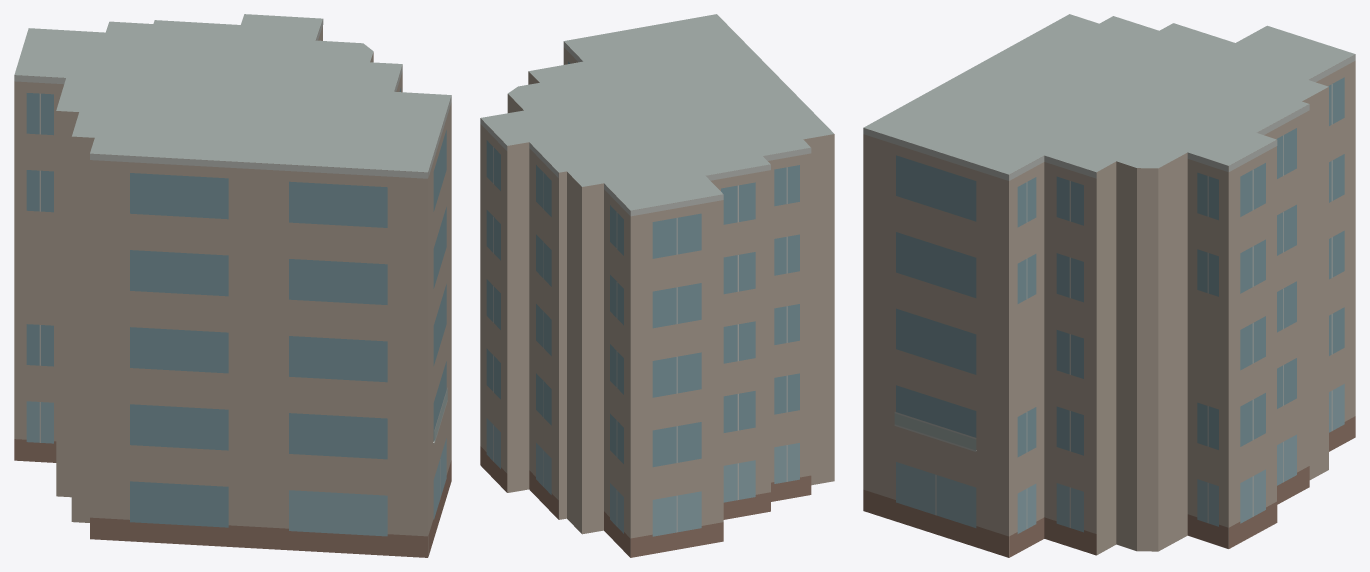
Rendered from survey-upis-32779672.glb.
3 views of the same model, side by side, from view 1: azimuth 30°, elevation 25°; view 2: azimuth 150°, elevation 25°; view 3: azimuth 270°, elevation 25° (orthographic). The views are drawn at different scales.
Visible parts, largest first — view 1: survey-upis-32779672.tmp; view 2: survey-upis-32779672.tmp; view 3: survey-upis-32779672.tmp.
Boxes of the visible parts, x1,y1,x2,y2 form: survey-upis-32779672.tmp: (14, 14, 451, 557); survey-upis-32779672.tmp: (480, 14, 834, 557); survey-upis-32779672.tmp: (863, 14, 1355, 557).
Size of the model in its own units: 13.18 by 14.65 by 17.07.
